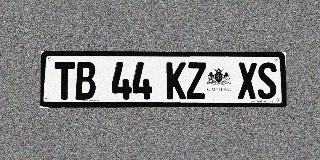4: (112, 62, 132, 100), (132, 62, 152, 100)
B: (75, 62, 96, 100)
K: (166, 62, 186, 99)
S: (257, 62, 277, 99)
T: (54, 62, 75, 100)
X: (238, 62, 257, 99)
Z: (187, 62, 206, 99)
